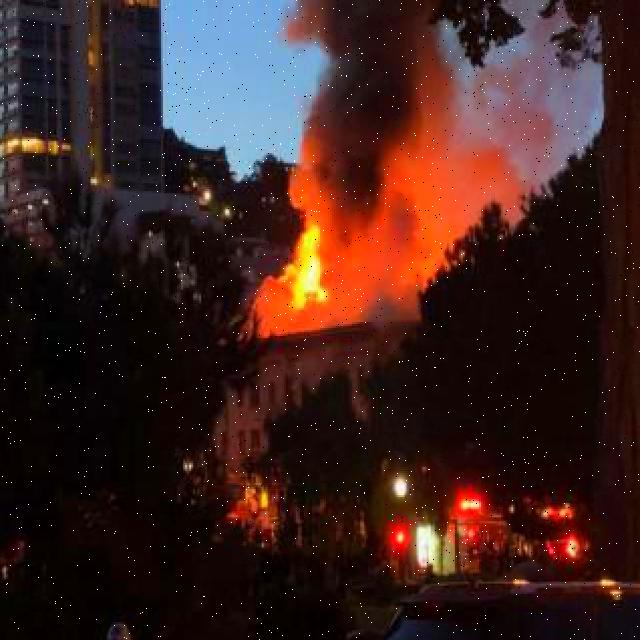fire: (258, 225, 326, 314), (229, 471, 270, 521)
smoke: (279, 12, 490, 229), (324, 225, 473, 328)
